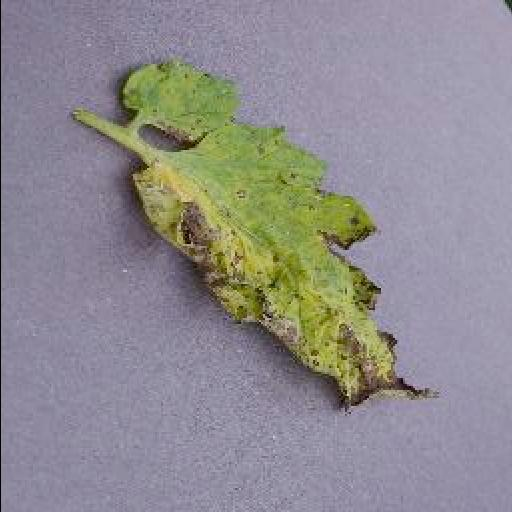disease_tomato: (122, 62, 418, 402)
